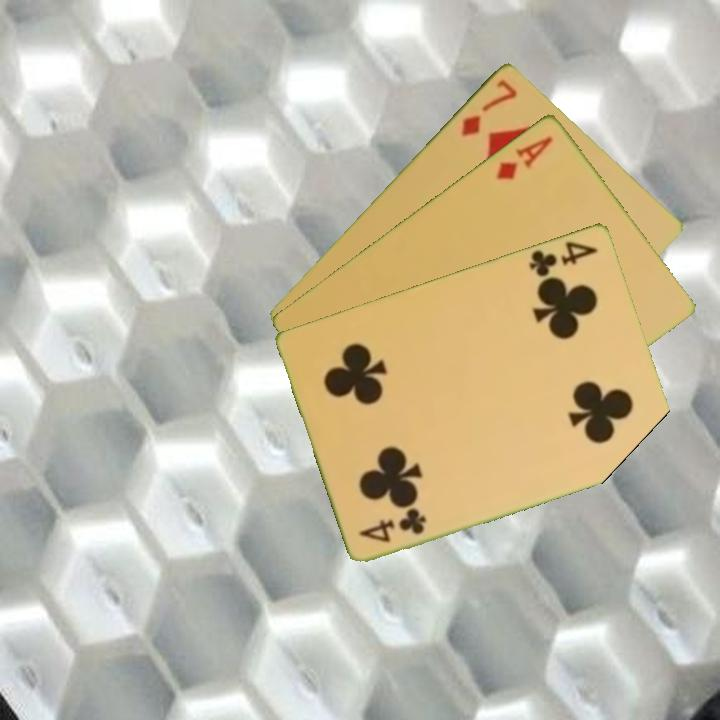4c: (525, 237, 601, 279), (355, 505, 430, 545)
7d: (457, 74, 521, 139)
Ad: (492, 131, 556, 182)
